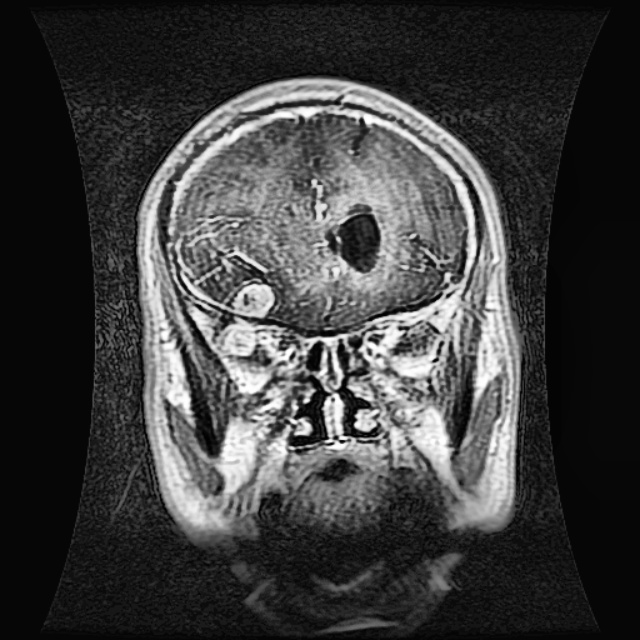Glioma: (222, 278, 274, 358)
